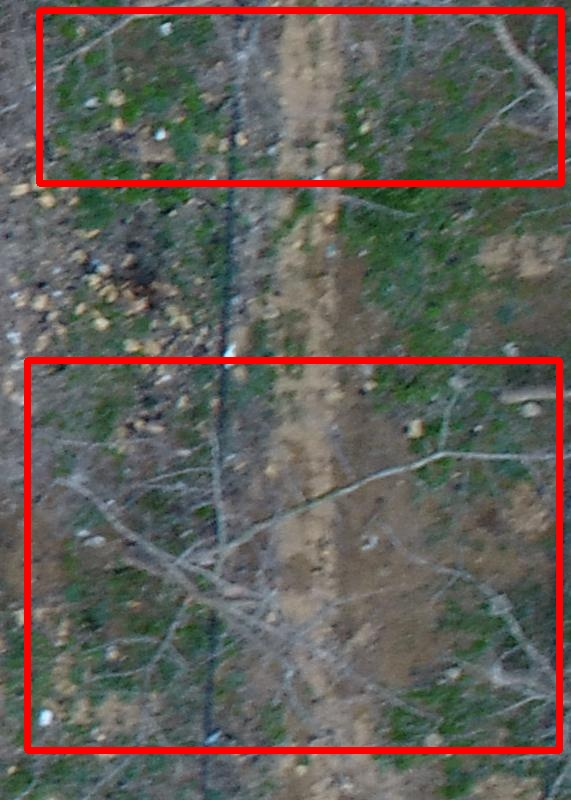apple: (27, 360, 559, 750), (39, 10, 561, 183)
